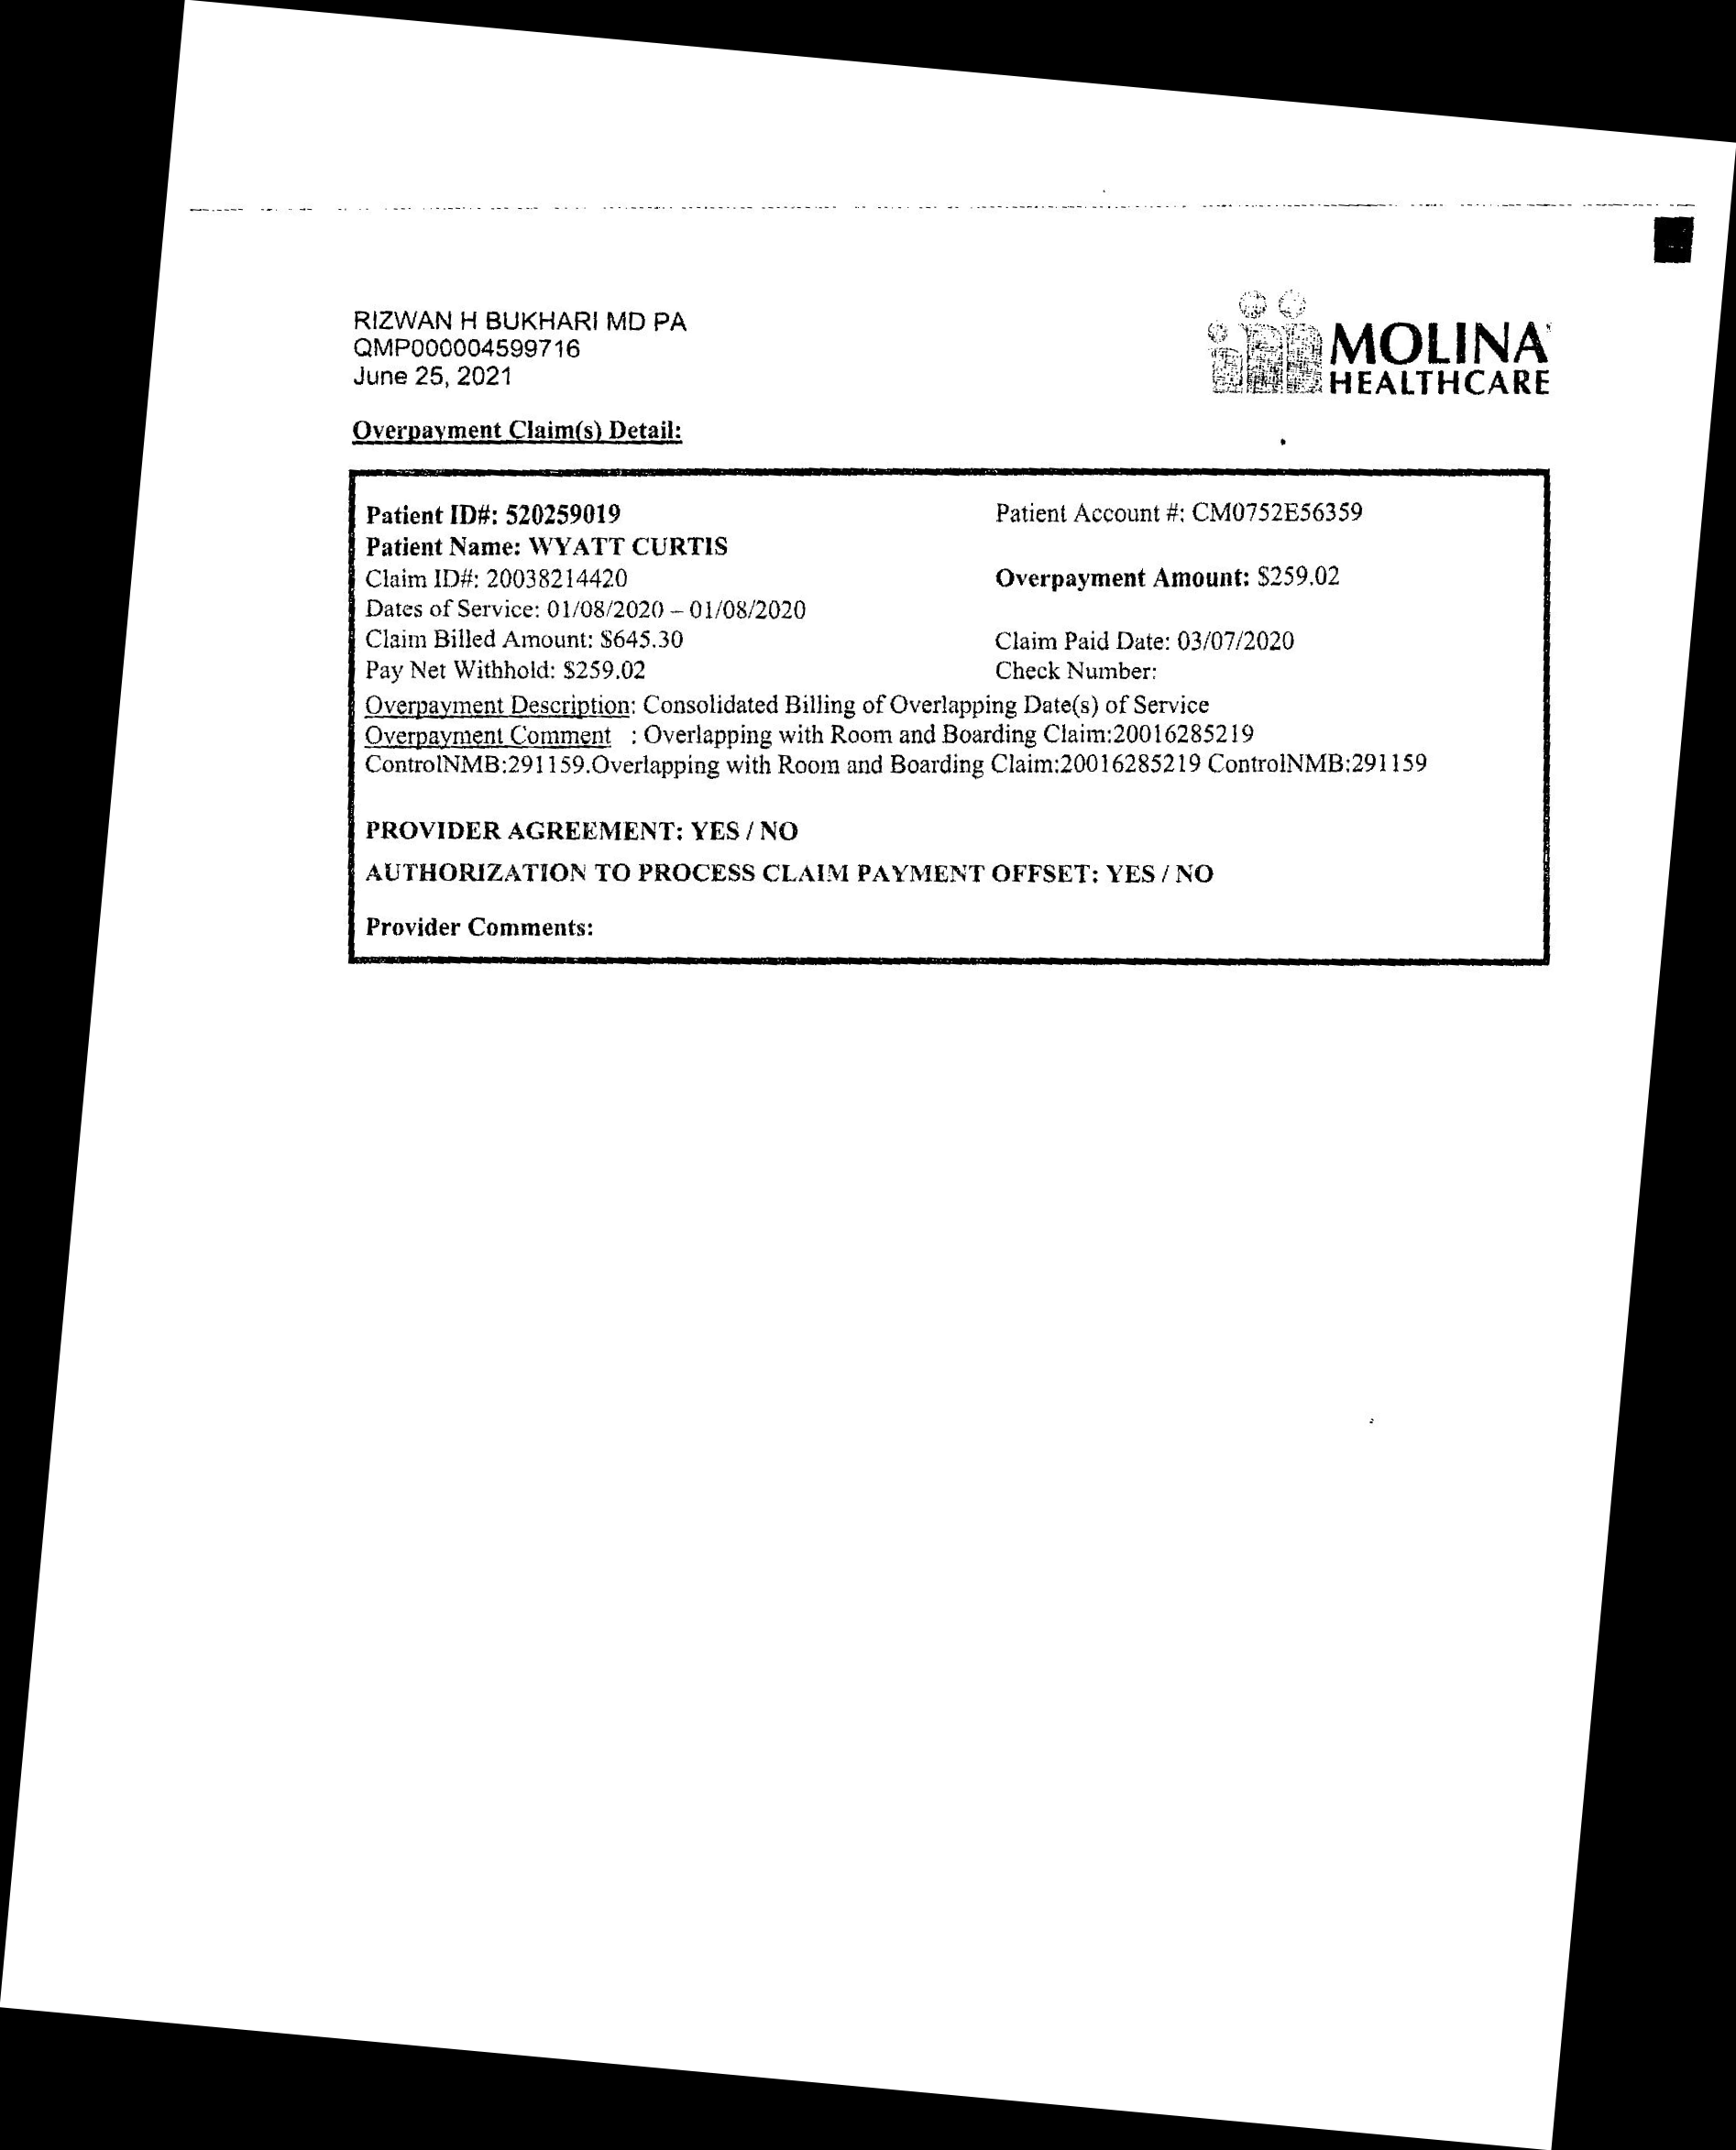data: (361, 485, 820, 684), (985, 491, 1369, 691)
